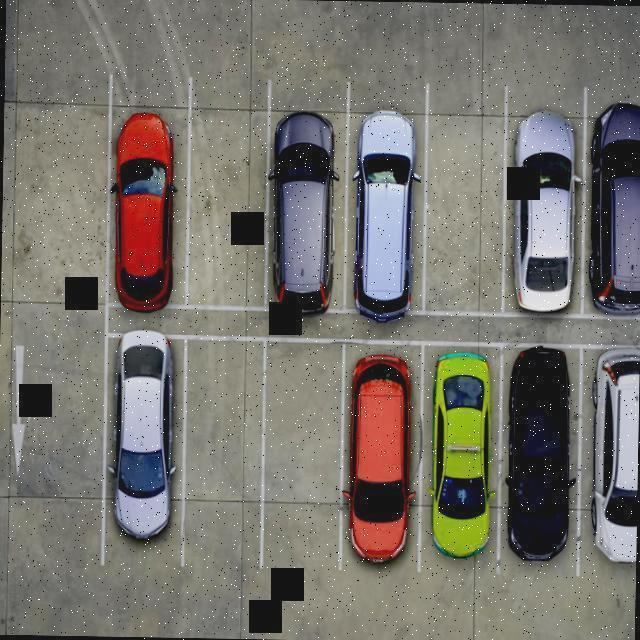space-empty: (186, 75, 267, 311), (263, 340, 342, 573), (185, 344, 265, 573), (425, 88, 502, 313)
space-occupied: (107, 71, 190, 311), (499, 344, 585, 572), (264, 85, 349, 314), (501, 90, 587, 312), (338, 343, 421, 571), (101, 340, 183, 568), (345, 84, 428, 309), (421, 346, 502, 566), (578, 348, 640, 571), (586, 86, 640, 299)
